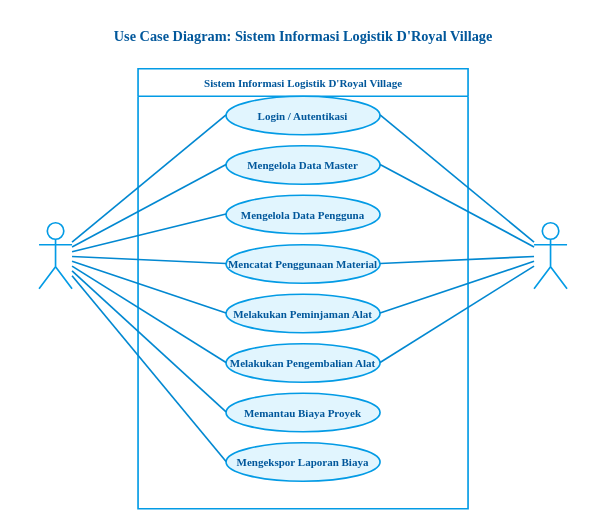
Some shapes in this 597 by 528 pixel diagram are drawn without their labels. The centre of each missing label's shape, as x and y in pixels:
"Admin (Kepala Proyek)" belongs at point 55,255.
"Staf Logistik" belongs at point 550,255.
